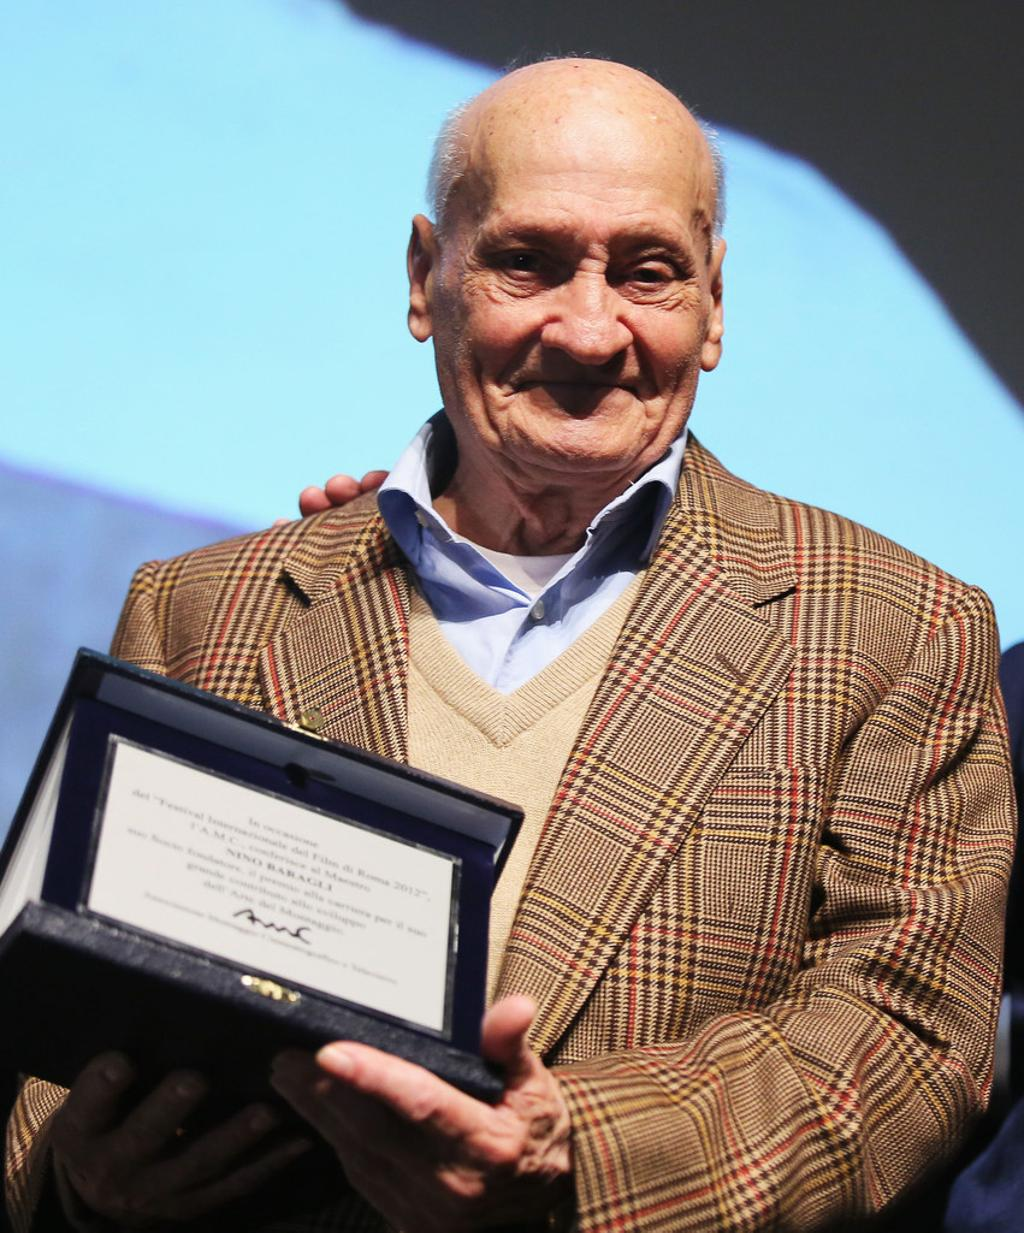face: (443, 68, 703, 472)
